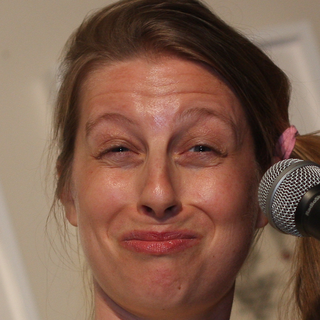eye: (173, 135, 229, 168), (90, 138, 144, 165)
